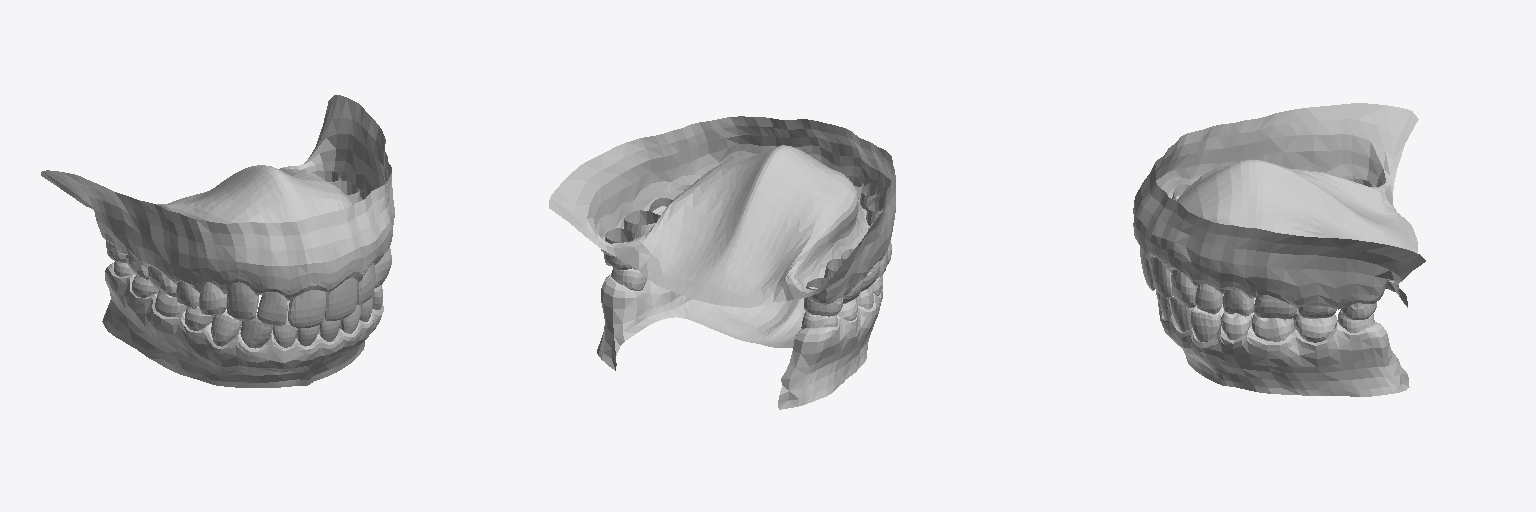
The model's file is teeth.obj.
3 renders of one model, left to right at view 1: azimuth 30°, elevation 25°; view 2: azimuth 150°, elevation 25°; view 3: azimuth 270°, elevation 25°, orthographic.
Visible parts, largest first — view 1: teeth; view 2: teeth; view 3: teeth.
Boxes of the visible parts, x1,y1,x2,y2 form: teeth: [41, 95, 394, 387]; teeth: [549, 116, 895, 409]; teeth: [1133, 103, 1425, 396].
Bounding box in the file's own units: 1.68 × 1.05 × 1.44.